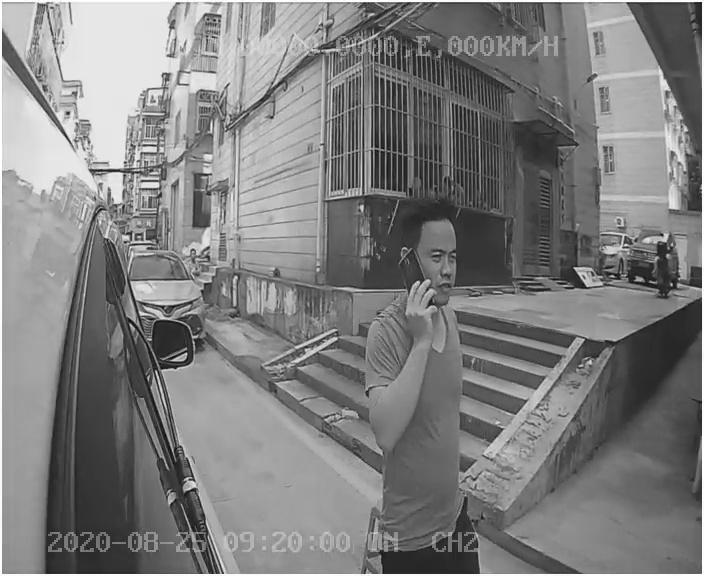person: (351, 201, 504, 545)
